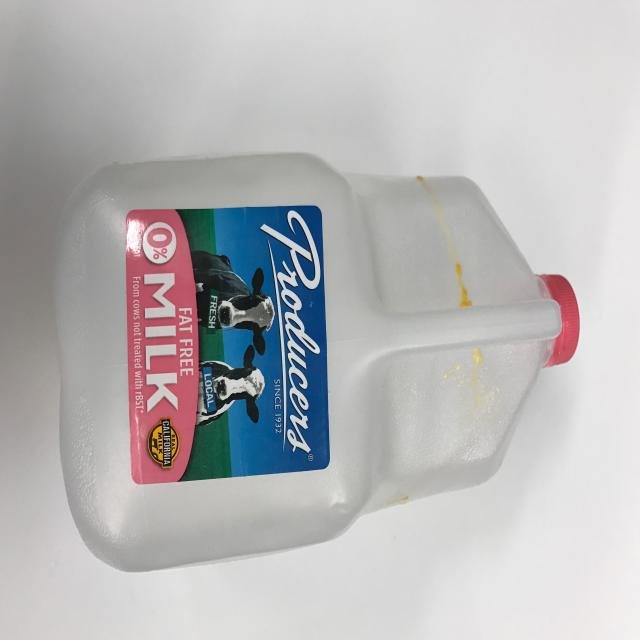plastic: (51, 151, 579, 572)
